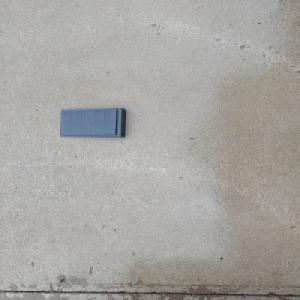PlasticPart: (59, 106, 128, 138)
